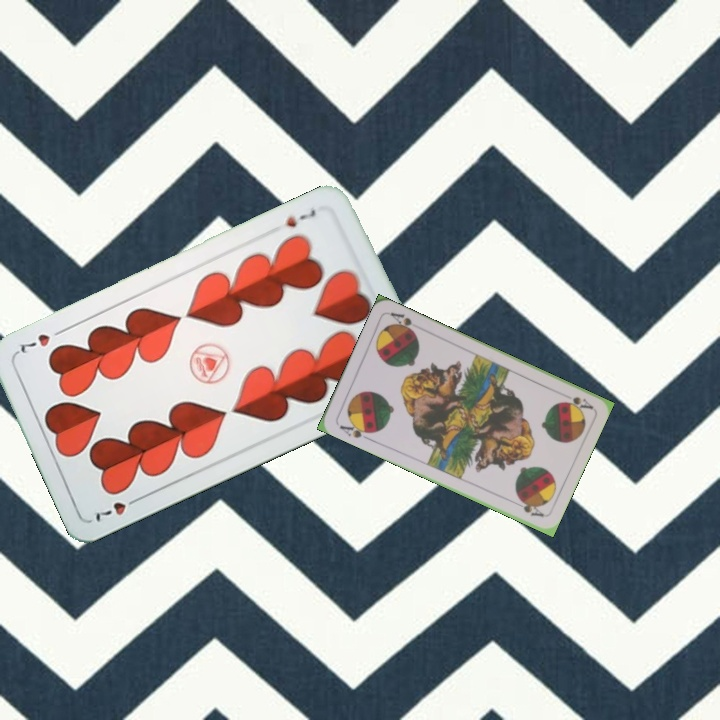H7: (90, 492, 144, 524), (282, 205, 319, 230)
SA: (335, 418, 376, 443), (556, 388, 595, 413)
